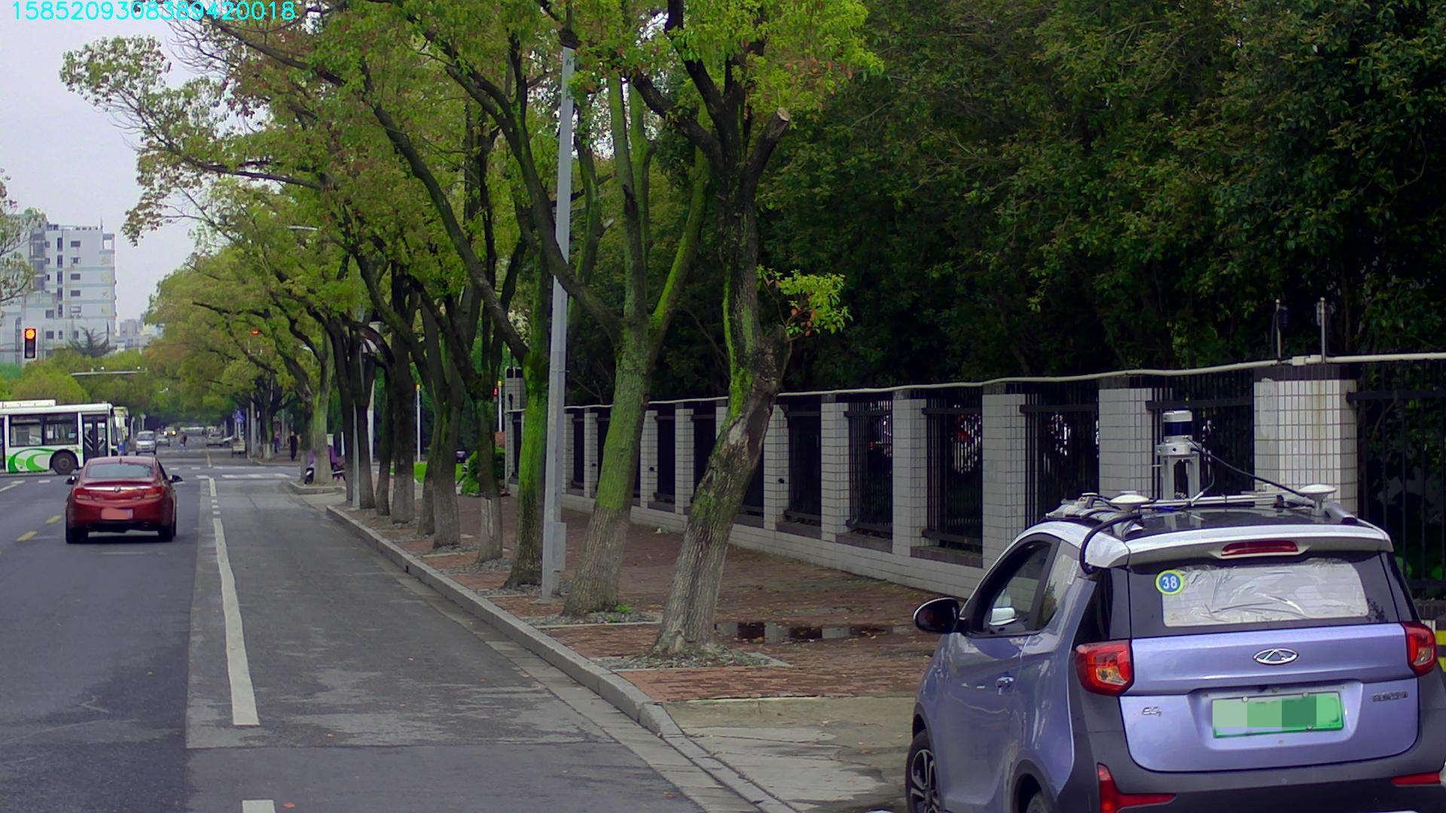red: (23, 327, 35, 359)
